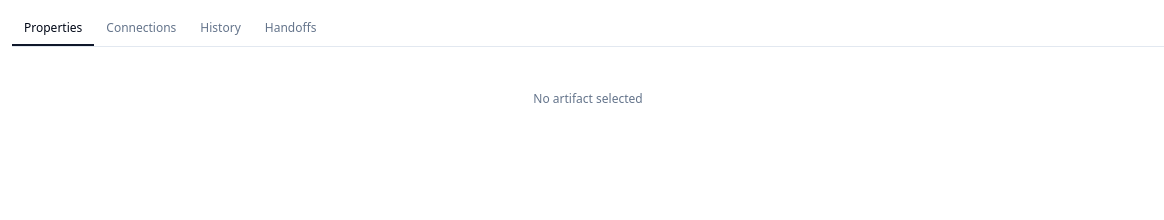
Test: ContextRail — ConnectionsPanel › shows loading skeleton after switching to Connections tab
Click the tab "Connections" at (141, 29), box [94,12,188,46]
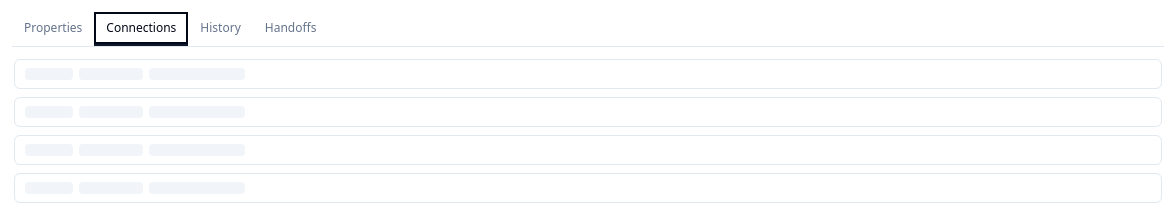
Now the element named "loading connections" is shown
